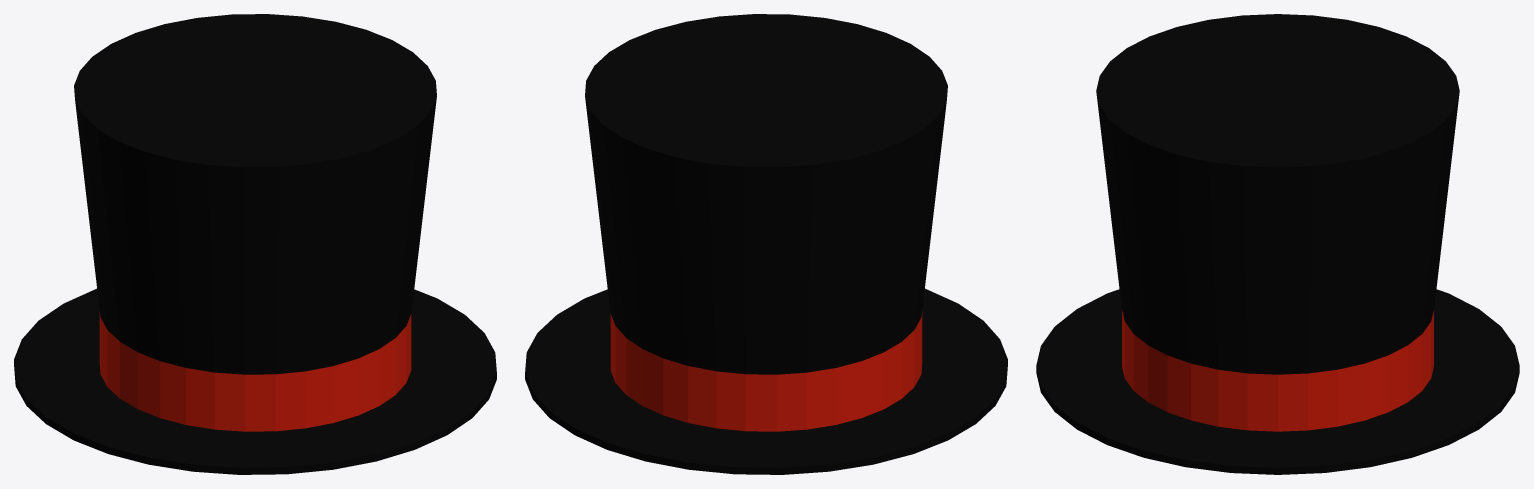
The model's file is Magician hat.gltf.
3 renders of one model, left to right at view 1: azimuth 30°, elevation 25°; view 2: azimuth 150°, elevation 25°; view 3: azimuth 270°, elevation 25°, orthographic.
Parts seen in each view (by area): view 1: Magician's hat; view 2: Magician's hat; view 3: Magician's hat.
Part boxes in pixels (x1,y1,x2,y2): Magician's hat: (14, 14, 496, 474); Magician's hat: (525, 14, 1007, 474); Magician's hat: (1036, 14, 1519, 474).
Size of the model in its own units: 0.3549 by 0.2285 by 0.3549.
